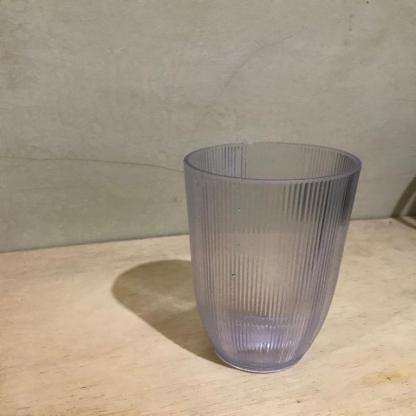glass: (182, 137, 361, 377)
